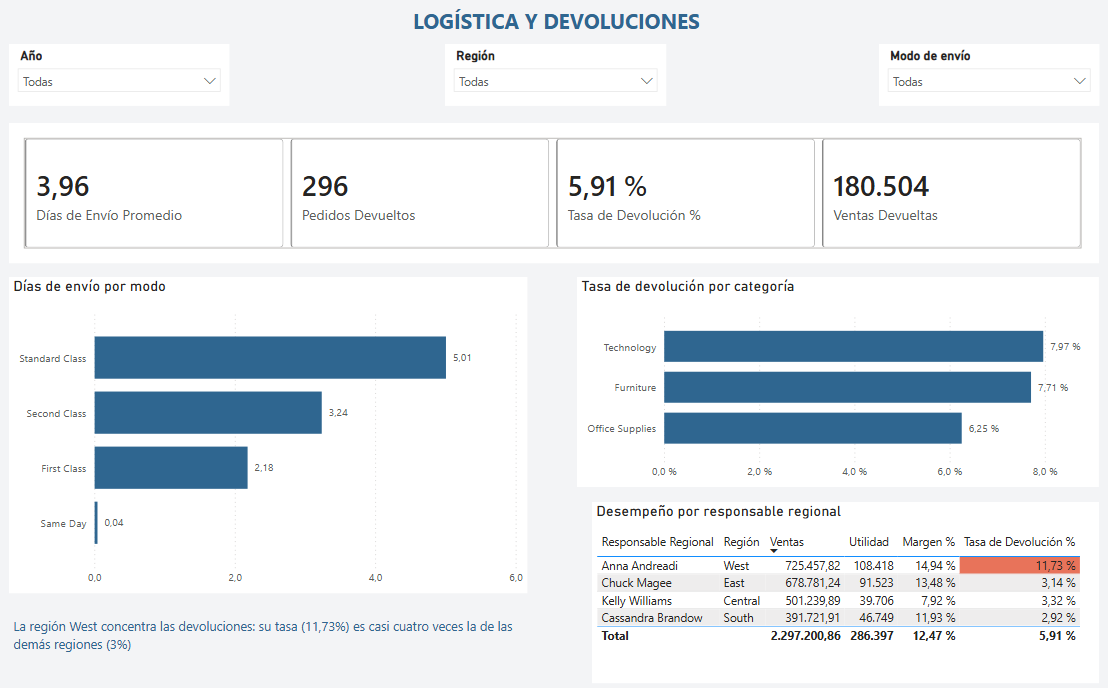

This screenshot's page, from the dashboard's own definition file:
{"tool":"powerbi","page":{"name":"Logística y devoluciones","canvas":[1280,800],"ordinal":3},"visuals":[{"type":"slicer","title":"Año","fields":{"Values":["dim_date.year"]},"box":[12.6,56.1,252.8,70.9],"z":0},{"type":"slicer","fields":{"Values":["dim_geography.region"]},"box":[513.1,56.2,253.9,70.9],"z":1000},{"type":"slicer","fields":{"Values":["fact_sales.ship_mode"]},"box":[1011.2,56.1,252.8,70.9],"z":2000},{"type":"textbox","box":[456.4,8,368.3,48],"z":4000},{"type":"cardVisual","fields":{"Data":["_Medidas.Días de Envío Promedio","_Medidas.Pedidos Devueltos","_Medidas.Tasa de Devolución %","_Medidas.Ventas Devueltas"]},"box":[12.6,146.4,1251.4,161.3],"z":5000},{"type":"clusteredBarChart","title":"Días de envío por modo","fields":{"Category":["fact_sales.ship_mode"],"Y":["_Medidas.Días de Envío Promedio"]},"box":[12.6,323.7,594.5,362.7],"z":6000},{"type":"barChart","title":"Tasa de devolución por categoría","fields":{"Category":["dim_product.category"],"Y":["_Medidas.Tasa de Devolución %"]},"box":[664.6,323.7,599.1,241],"z":7000},{"type":"tableEx","title":"Desempeño por responsable regional","fields":{"Values":["dim_geography.regional_manager","dim_geography.region","_Medidas.Ventas","_Medidas.Utilidad","_Medidas.Margen %","_Medidas.Tasa de Devolución %"]},"box":[681.8,581.9,581.9,207.7],"z":8000},{"type":"textbox","box":[12.6,709.3,595.7,67.7],"z":8001}]}

Visuals, with their boxes in screenshot pixels (x1, y1, x2, y2), scaled from the page's 1280x800 canvas onto the 1108x688 screenshot:
"Año" slicer: (11,48,230,109)
slicer - dim_geography.region: (444,48,664,109)
slicer - fact_sales.ship_mode: (875,48,1094,109)
textbox: (395,7,714,48)
cardVisual - _Medidas.Días de Envío Promedio x _Medidas.Pedidos Devueltos: (11,126,1094,265)
"Días de envío por modo" clusteredBarChart: (11,278,526,590)
"Tasa de devolución por categoría" barChart: (575,278,1094,486)
"Desempeño por responsable regional" tableEx: (590,500,1094,679)
textbox: (11,610,527,668)
